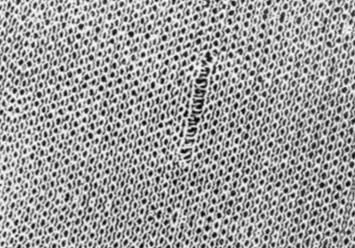slub: (174, 46, 218, 168)
